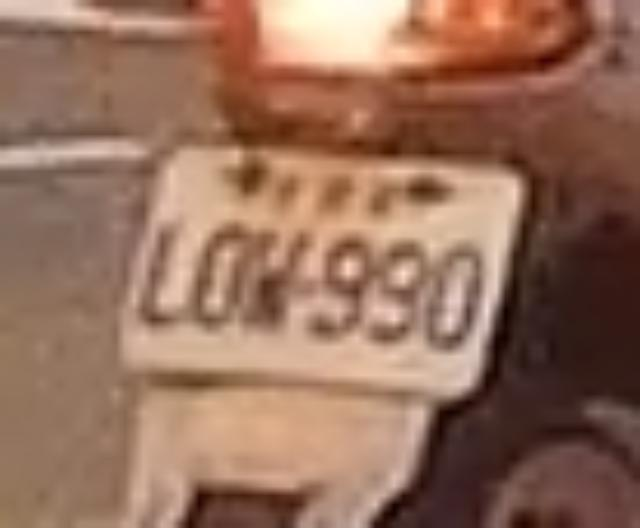plate: (115, 129, 539, 405)
